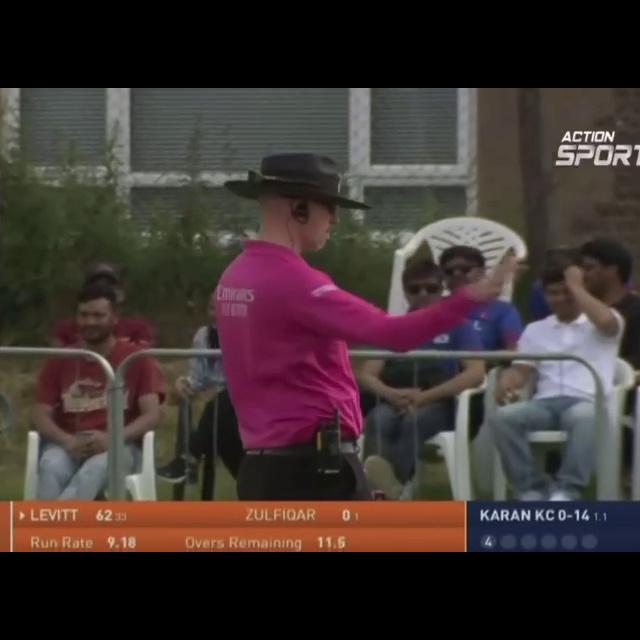umpire: (166, 129, 549, 487)
